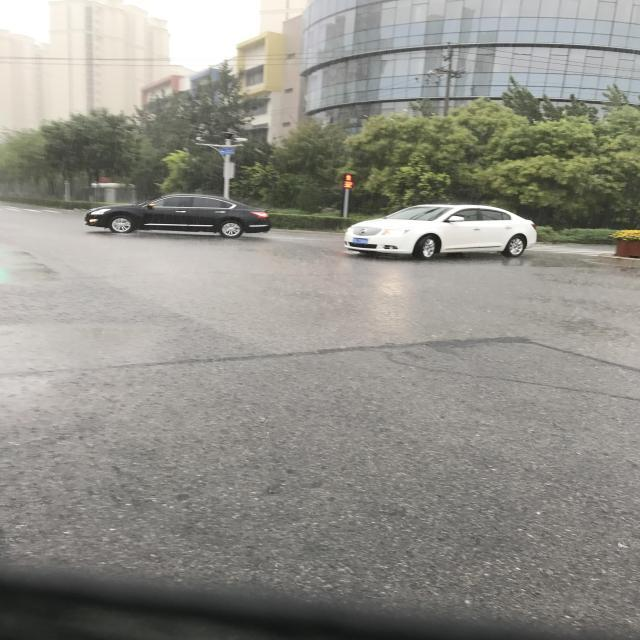car: (204, 104, 258, 296), (194, 368, 238, 556)
